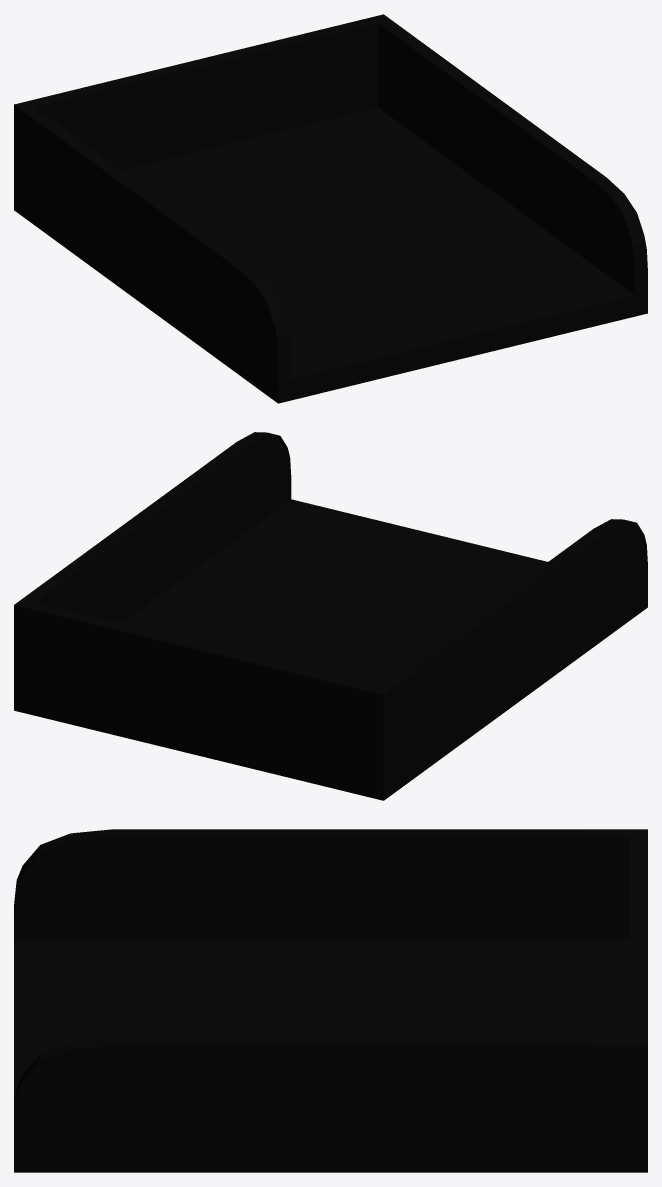
Rendered from Paper Tray_lod2.fbx.
3 renders of one model, top to bottom at view 1: azimuth 30°, elevation 25°; view 2: azimuth 150°, elevation 25°; view 3: azimuth 270°, elevation 25°, orthographic. The views are drawn at different scales.
Parts seen in each view (by area): view 1: Paper_Tray; view 2: Paper_Tray; view 3: Paper_Tray.
Boxes of the visible parts, x1,y1,x2,y2 form: Paper_Tray: (14,14,647,403); Paper_Tray: (14,432,647,800); Paper_Tray: (14,829,647,1172).
Bounding box in the file's own units: 1.83 × 0.5 × 2.27.
